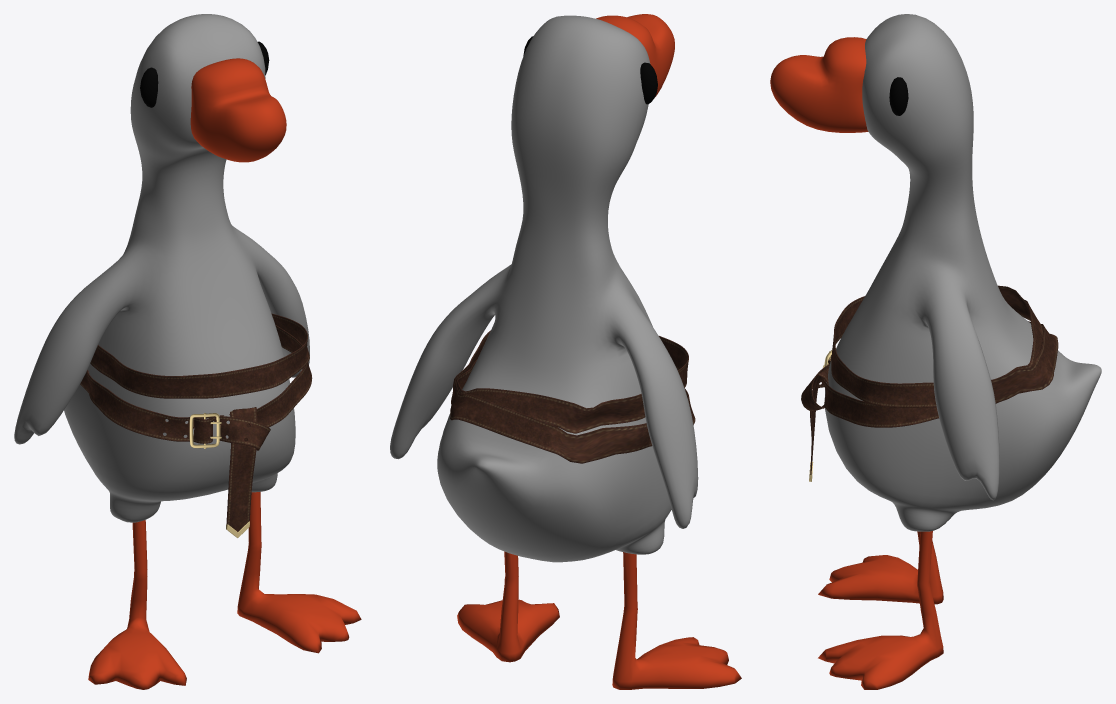
Rendered from LocomotionWstrap.glb.
The picture shows the model from 3 angles, left to right: view 1: azimuth 30°, elevation 25°; view 2: azimuth 150°, elevation 25°; view 3: azimuth 270°, elevation 25°; orthographic projection. The views are drawn at different scales.
Parts seen in each view (by area): view 1: defaultMaterial.004, mixamorig:Spine; view 2: defaultMaterial.004, mixamorig:Spine; view 3: defaultMaterial.004, mixamorig:Spine.
Boxes of the visible parts, x1=… form: defaultMaterial.004: x1=14, y1=14, x2=361, y2=689; mixamorig:Spine: x1=80, y1=313, x2=312, y2=537; defaultMaterial.004: x1=390, y1=14, x2=741, y2=689; mixamorig:Spine: x1=450, y1=330, x2=695, y2=463; defaultMaterial.004: x1=770, y1=14, x2=1101, y2=689; mixamorig:Spine: x1=801, y1=285, x2=1058, y2=481.
Bounding box in the file's own units: 0.8135 × 1.67 × 0.8316.
6 materials, 3 textured.
